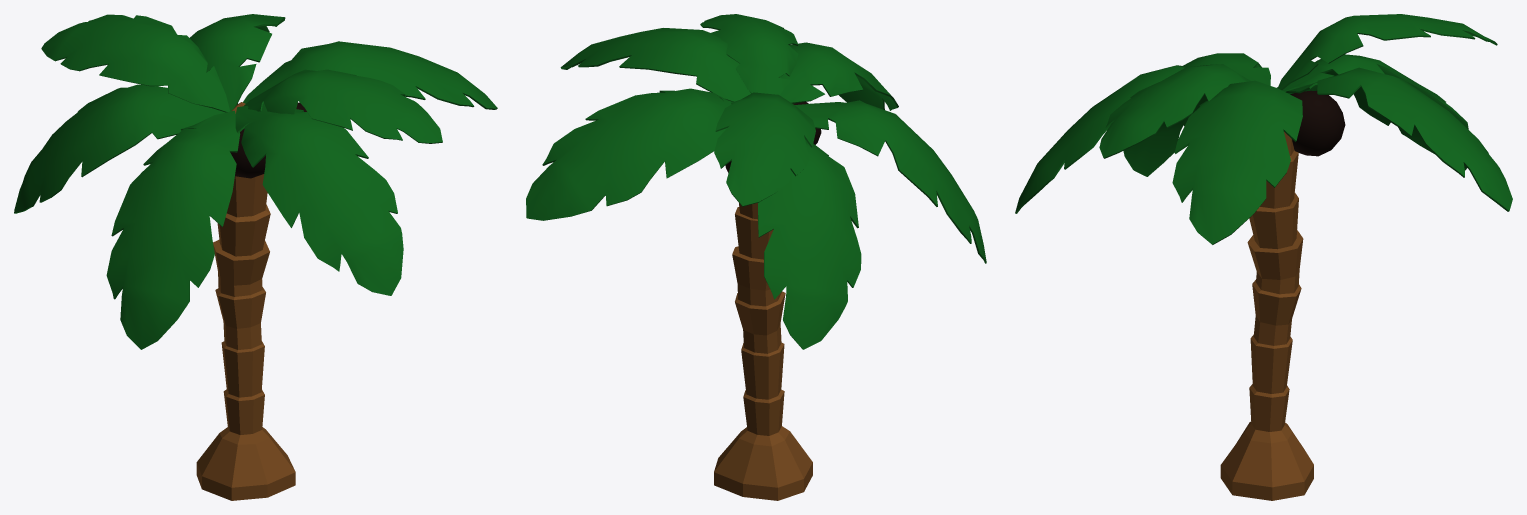
File: SM_PalmTree_01.obj
3 views of the same model, side by side, from view 1: azimuth 30°, elevation 25°; view 2: azimuth 150°, elevation 25°; view 3: azimuth 270°, elevation 25° (orthographic). The views are drawn at different scales.
Parts seen in each view (by area): view 1: SM_PalmTree_01; view 2: SM_PalmTree_01; view 3: SM_PalmTree_01.
Part boxes in pixels (bbox=[...]): SM_PalmTree_01: bbox=[14, 14, 497, 500]; SM_PalmTree_01: bbox=[526, 14, 986, 500]; SM_PalmTree_01: bbox=[1015, 14, 1512, 500].
Size of the model in its own units: 4.59 by 4.71 by 4.86.
